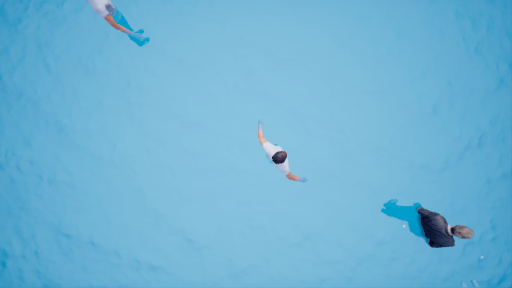person: (381, 195, 476, 249), (250, 117, 310, 186), (89, 1, 148, 51)
